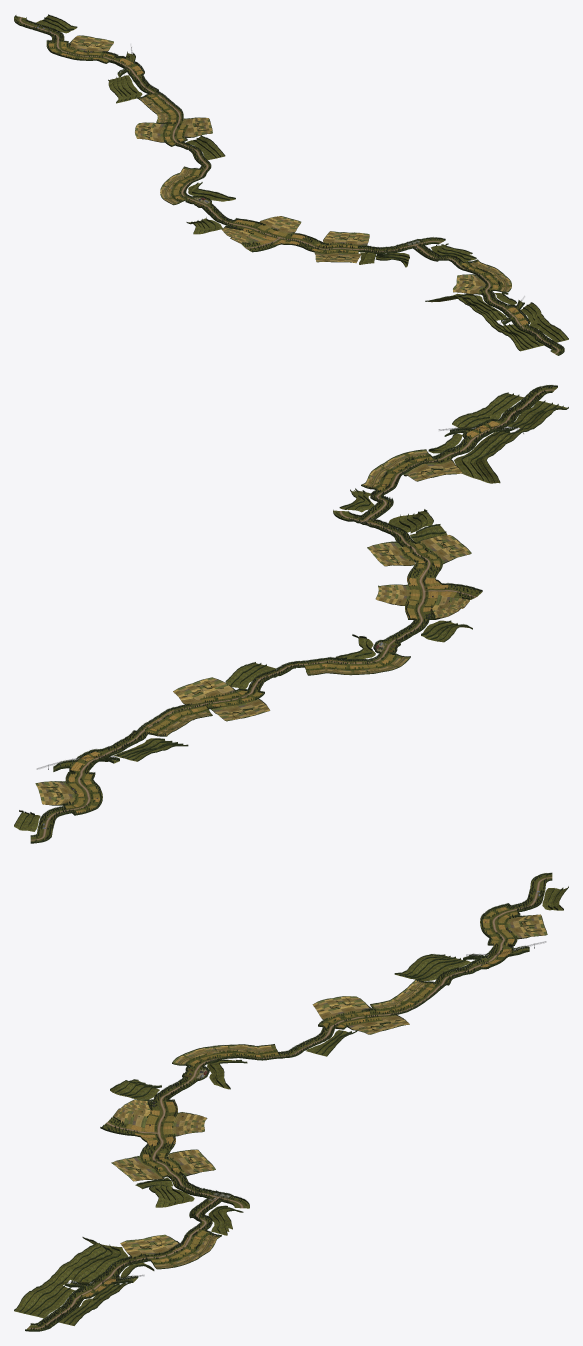
Rendered from russia_stage1_visual.glb.
The picture shows the model from 3 angles, top to bottom: view 1: azimuth 30°, elevation 25°; view 2: azimuth 150°, elevation 25°; view 3: azimuth 330°, elevation 25°; orthographic projection. The views are drawn at different scales.
Parts seen in each view (by area): view 1: Track_Road_And_Terrain, Foliage_And_Vegetation, Props_And_Markers; view 2: Track_Road_And_Terrain, Foliage_And_Vegetation, Props_And_Markers; view 3: Track_Road_And_Terrain, Foliage_And_Vegetation, Props_And_Markers.
Part boxes in pixels (left/top/right/bottom): Track_Road_And_Terrain: left=14, top=15, right=564, bottom=355; Foliage_And_Vegetation: left=15, top=14, right=568, bottom=353; Props_And_Markers: left=41, top=28, right=550, bottom=344; Track_Road_And_Terrain: left=30, top=385, right=557, bottom=843; Foliage_And_Vegetation: left=14, top=385, right=568, bottom=841; Props_And_Markers: left=35, top=399, right=532, bottom=826; Track_Road_And_Terrain: left=25, top=872, right=552, bottom=1331; Foliage_And_Vegetation: left=14, top=874, right=568, bottom=1329; Props_And_Markers: left=48, top=893, right=547, bottom=1321.
Bounding box in the file's own units: 1092 × 65.96 × 4748.
82 materials, 82 textured.
